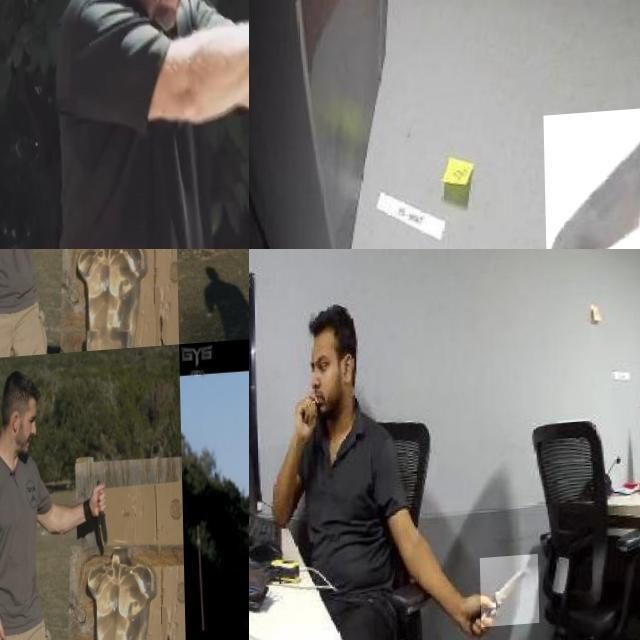-: (541, 112, 640, 249), (478, 559, 537, 632), (86, 478, 110, 563), (74, 249, 104, 288)
